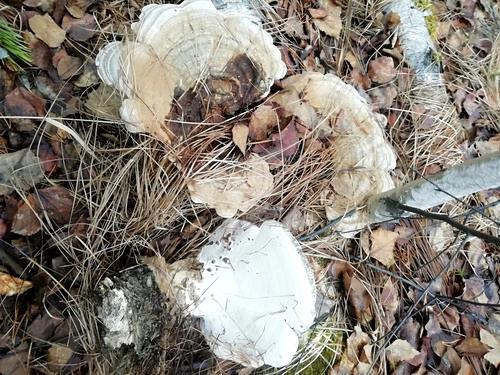Ganoderma - Fruit Body: (98, 0, 279, 144), (168, 217, 314, 366), (283, 71, 396, 212)
